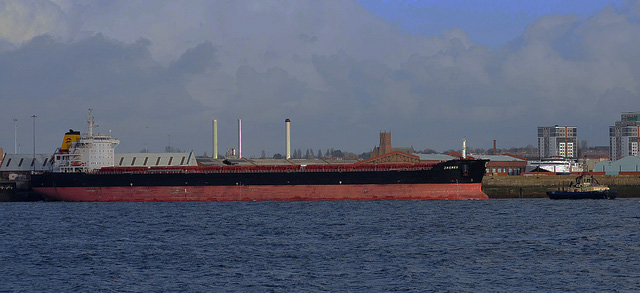tanker: (28, 116, 488, 205)
tug_boat: (549, 166, 623, 198)
